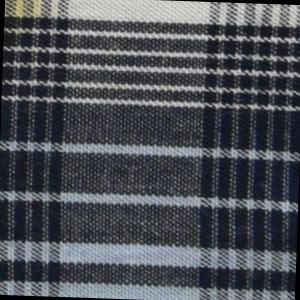Stain: (5, 1, 50, 36)
